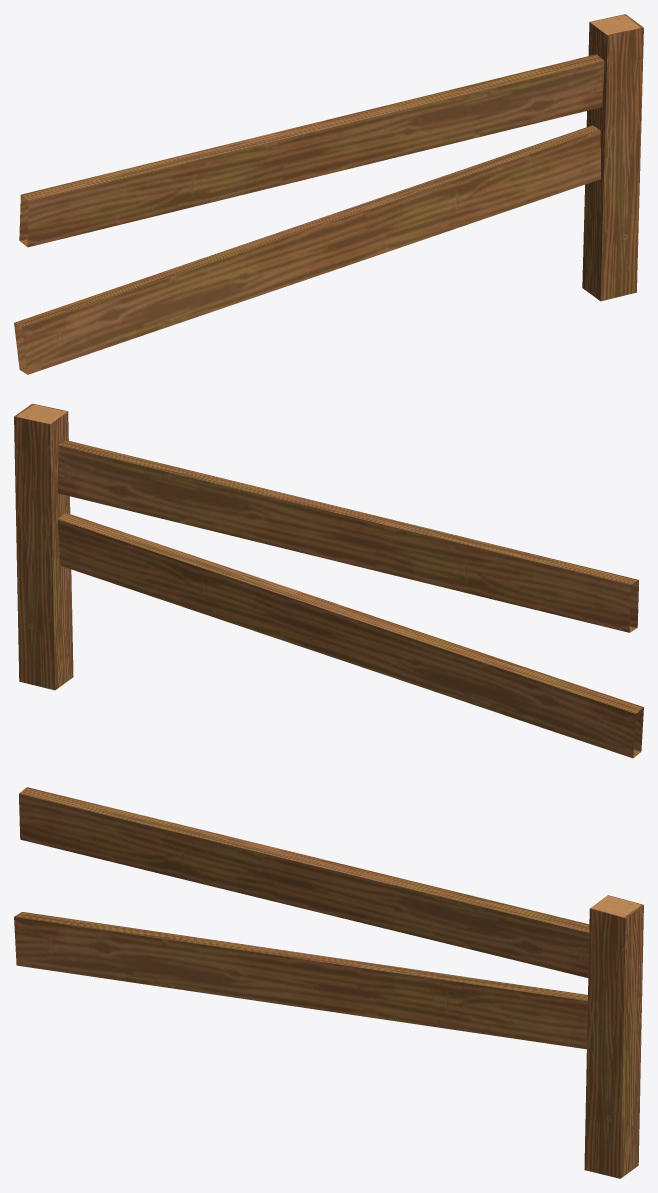
Rendered from Prop_WoodenFence_Extension1.gltf.
3 views of the same model, one above another, from view 1: azimuth 30°, elevation 25°; view 2: azimuth 150°, elevation 25°; view 3: azimuth 330°, elevation 25° (orthographic).
Visible parts, largest first — view 1: Prop_WoodenFence_Extension1; view 2: Prop_WoodenFence_Extension1; view 3: Prop_WoodenFence_Extension1.
Boxes of the visible parts, bbox=[...] form: Prop_WoodenFence_Extension1: bbox=[14, 14, 643, 374]; Prop_WoodenFence_Extension1: bbox=[14, 403, 643, 758]; Prop_WoodenFence_Extension1: bbox=[14, 787, 643, 1178].
Size of the model in its own units: 2.05 by 0.8381 by 0.1104.
1 material, 1 textured.
